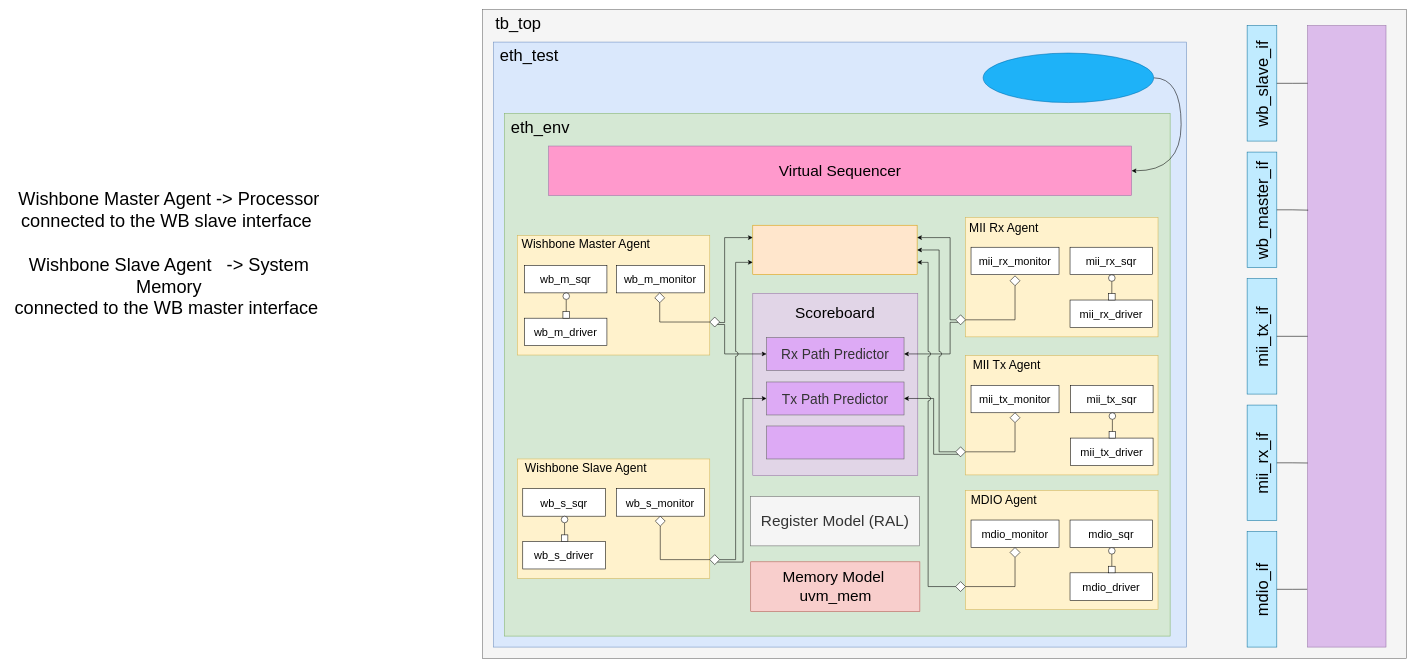
This 1416x668 diagram has some shape labels left out. The shapes that lost their labels are listed below. From the top down, each one's centre as x and y in pixels, then its label:
At pixel 1068 78: "Virtual Sequence".
At pixel 834 250: "coverage collector".
At pixel 1346 336: "DUT".
At pixel 835 442: "MII Path Predictor".
